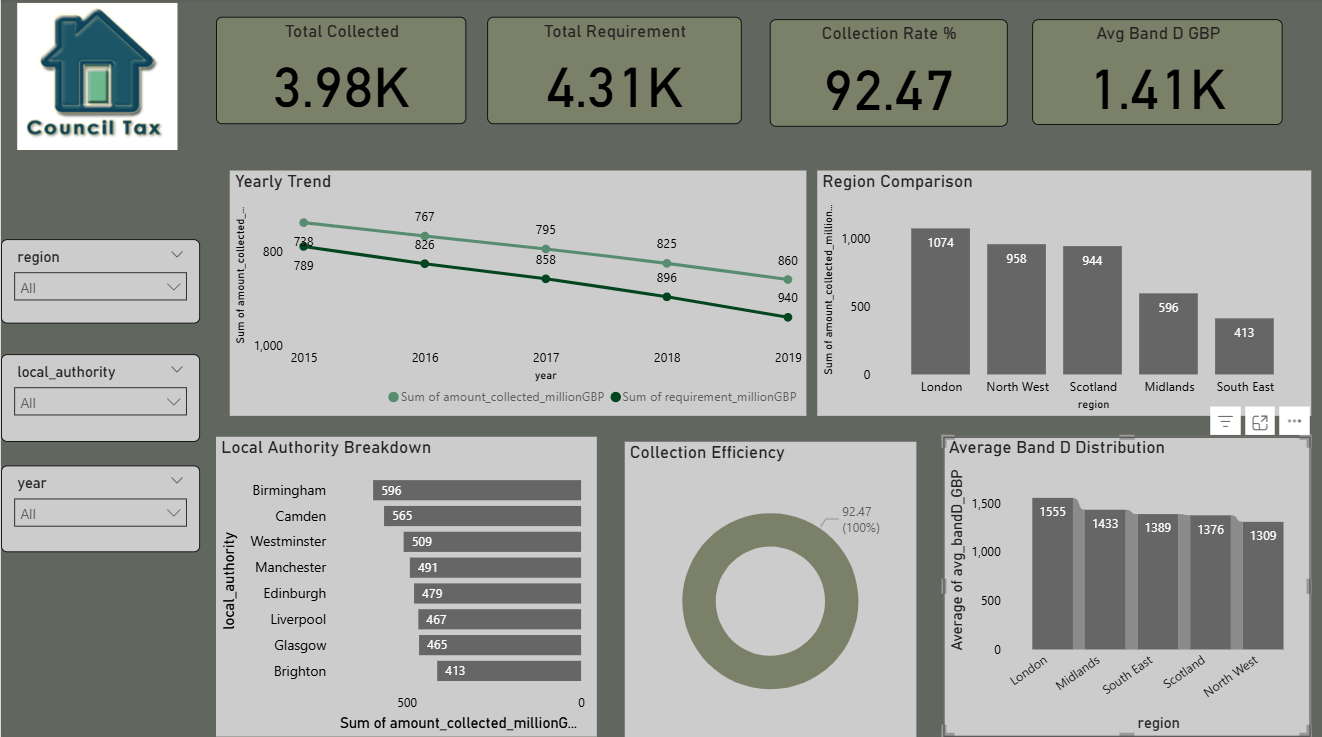

Layout of this report page (visuals, bound fields, positions):
{"tool":"powerbi","page":{"name":"Page 1","canvas":[1280,720],"ordinal":0},"visuals":[{"type":"card","title":"Total Collected","fields":{"Values":["Sum(council council_tax.amount_collected_millionGBP)"]},"box":[208.8,18.8,242.5,103.8],"z":0},{"type":"card","title":"Total Requirement","fields":{"Values":["Sum(council council_tax.requirement_millionGBP)"]},"box":[471.2,18.8,246.2,103.8],"z":1000},{"type":"card","title":"Avg Band D GBP","fields":{"Values":["Avg(council council_tax.avg_bandD_GBP)"]},"box":[998.8,20,242.5,102.5],"z":2000},{"type":"card","title":"Collection Rate %","fields":{"Values":["council_tax.Collection Rate %"]},"box":[745,20,230,103.8],"z":3000},{"type":"lineChart","title":"Yearly Trend","fields":{"Category":["council_tax.year"],"Y":["Sum(council_tax.amount_collected_millionGBP)","Sum(council_tax.requirement_millionGBP)"]},"box":[221.2,167.5,558.8,237.5],"z":4000},{"type":"clusteredColumnChart","title":"Region Comparison","fields":{"Category":["council_tax.region"],"Y":["Sum(council_tax.amount_collected_millionGBP)"]},"box":[790,167.5,478.8,237.5],"z":5000},{"type":"barChart","title":"Local Authority Breakdown","fields":{"Category":["council_tax.local_authority"],"Y":["Sum(council_tax.amount_collected_millionGBP)"]},"box":[208.8,425,368.8,290],"z":6000},{"type":"donutChart","title":"Collection Efficiency","fields":{"Y":["council_tax.Collection Rate %"]},"box":[603.8,430,282.5,290],"z":7000},{"type":"columnChart","title":"Average Band D Distribution","fields":{"Category":["council_tax.region"],"Y":["Avg(council_tax.avg_bandD_GBP)"]},"box":[912.5,425,356.2,290],"z":8000},{"type":"slicer","fields":{"Values":["council_tax.year"]},"box":[0,452.5,192.5,83.8],"z":9000},{"type":"slicer","fields":{"Values":["council_tax.region"]},"box":[0,233.8,192.5,81.2],"z":10000},{"type":"slicer","fields":{"Values":["council_tax.local_authority"]},"box":[0,345,192.5,85],"z":11000},{"type":"image","box":[11.2,0,165,152.5],"z":12000}]}

Visuals, with their boxes in screenshot pixels (x1, y1, x2, y2), scaled from the page's 1280x720 canvas onto the 1322x737 screenshot:
"Total Collected" card: x1=216 y1=19 x2=466 y2=125
"Total Requirement" card: x1=487 y1=19 x2=741 y2=125
"Avg Band D GBP" card: x1=1032 y1=20 x2=1282 y2=125
"Collection Rate %" card: x1=769 y1=20 x2=1007 y2=127
"Yearly Trend" lineChart: x1=228 y1=171 x2=806 y2=415
"Region Comparison" clusteredColumnChart: x1=816 y1=171 x2=1310 y2=415
"Local Authority Breakdown" barChart: x1=216 y1=435 x2=597 y2=732
"Collection Efficiency" donutChart: x1=624 y1=440 x2=915 y2=736
"Average Band D Distribution" columnChart: x1=942 y1=435 x2=1310 y2=732
slicer - council_tax.year: x1=0 y1=463 x2=199 y2=549
slicer - council_tax.region: x1=0 y1=239 x2=199 y2=322
slicer - council_tax.local_authority: x1=0 y1=353 x2=199 y2=440
image: x1=12 y1=0 x2=182 y2=156
